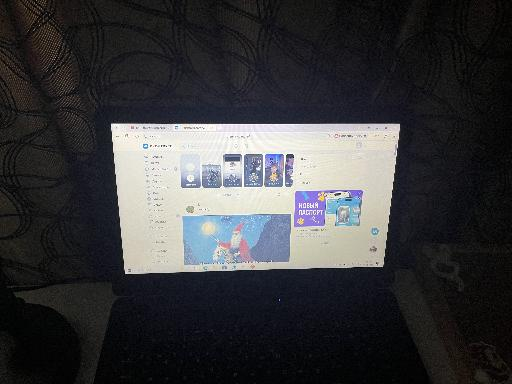vk: (114, 141, 388, 266)
